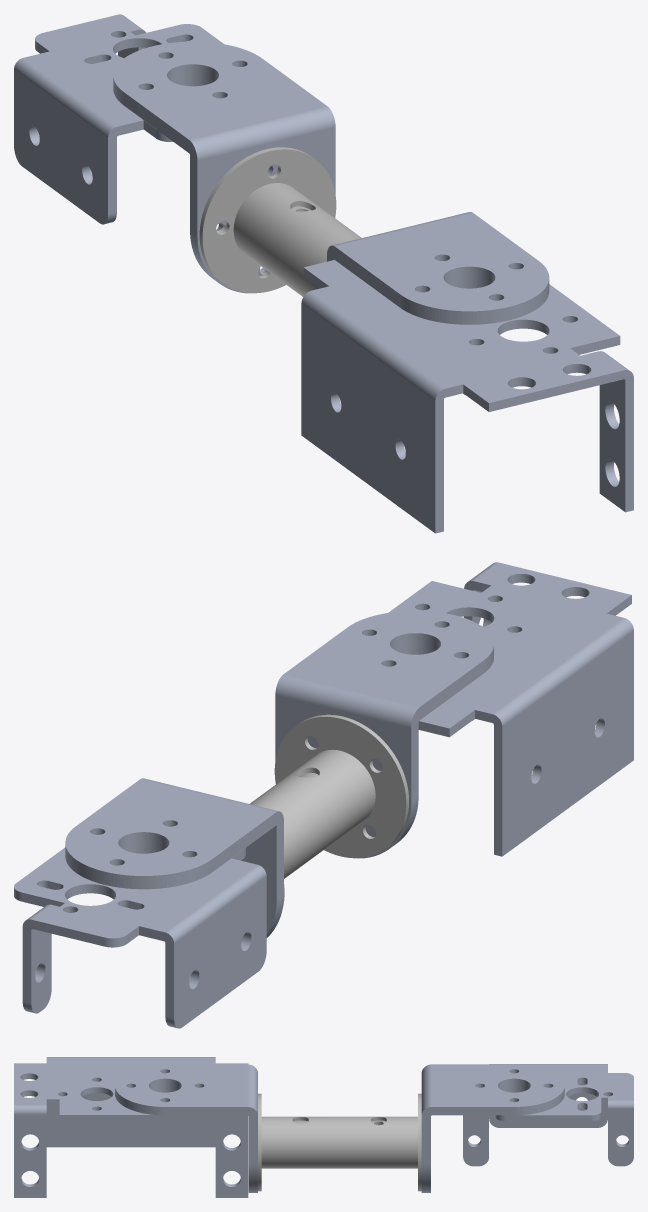
3 renders of one model, top to bottom at view 1: azimuth 30°, elevation 25°; view 2: azimuth 150°, elevation 25°; view 3: azimuth 270°, elevation 25°, orthographic. The views are drawn at different scales.
Parts seen in each view (by area): view 1: node3, node4, node6, node0, node5, node1; view 2: node3, node6, node0, node4, node1, node2; view 3: node3, node1, node6, node4, node0, node2, node5.
Part boxes in pixels (box(x1,y1,x2,y2)): node3: box(301, 260, 633, 533); node4: box(113, 41, 335, 293); node6: box(14, 14, 223, 224); node0: box(327, 212, 549, 324); node5: box(199, 147, 336, 293); node1: box(233, 183, 361, 296); node3: box(389, 562, 633, 856); node6: box(14, 845, 266, 1028); node0: box(275, 610, 493, 858); node4: box(65, 778, 283, 941); node1: box(250, 749, 375, 878); node2: box(274, 714, 408, 858); node3: box(14, 1057, 248, 1197); node1: box(261, 1116, 417, 1168); node6: box(463, 1064, 633, 1166); node4: box(421, 1064, 564, 1192); node0: box(115, 1064, 257, 1192); node2: box(258, 1093, 307, 1191); node5: box(371, 1093, 421, 1191).
Bounding box in the file's own units: 0.0351 × 0.1512 × 0.0276.
